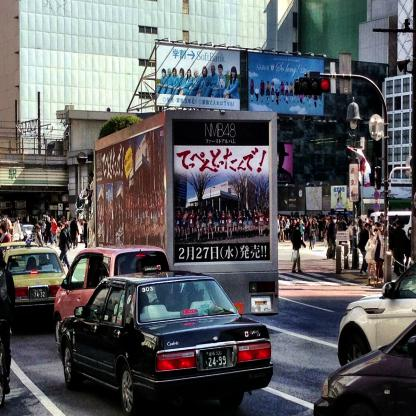Car: (55, 269, 273, 415), (52, 242, 174, 330), (314, 320, 415, 416), (336, 259, 416, 361), (0, 242, 68, 325)
